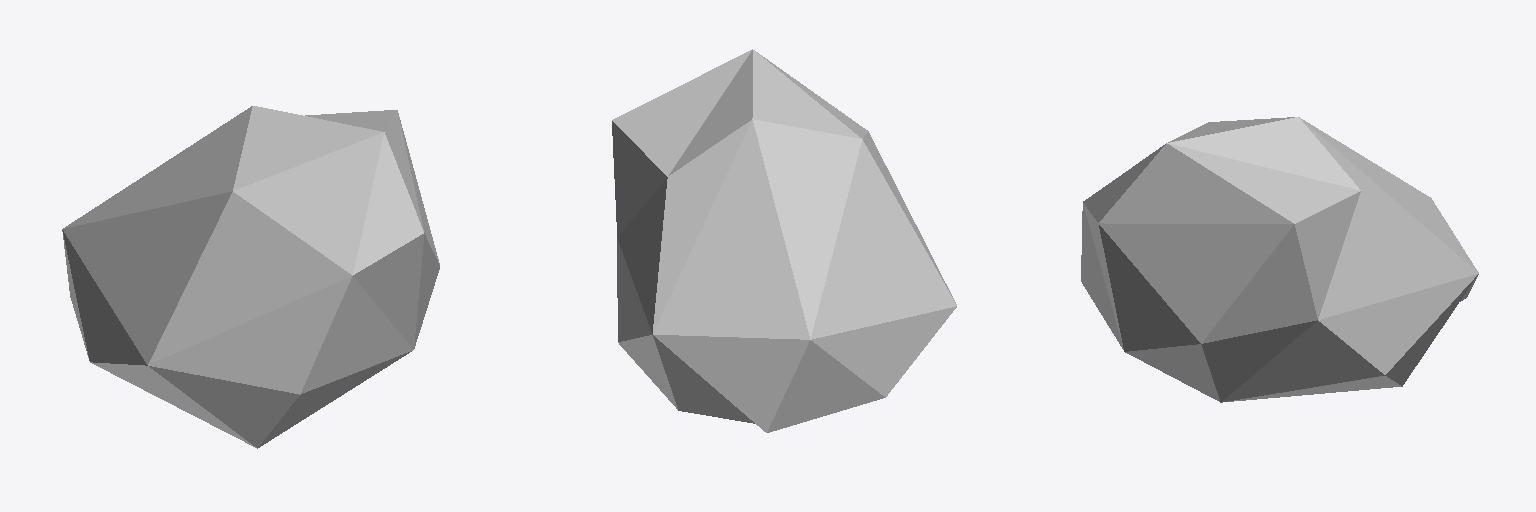
The model's file is pebble_item_model.obj.
The picture shows the model from 3 angles: view 1: azimuth 30°, elevation 25°; view 2: azimuth 150°, elevation 25°; view 3: azimuth 270°, elevation 25°; orthographic projection.
Parts seen in each view (by area): view 1: Cube.001; view 2: Cube.001; view 3: Cube.001.
Part boxes in pixels (bbox=[...]): Cube.001: bbox=[62, 106, 439, 448]; Cube.001: bbox=[612, 49, 956, 432]; Cube.001: bbox=[1081, 117, 1478, 402].
Size of the model in its own units: 0.1361 by 0.1292 by 0.1576.